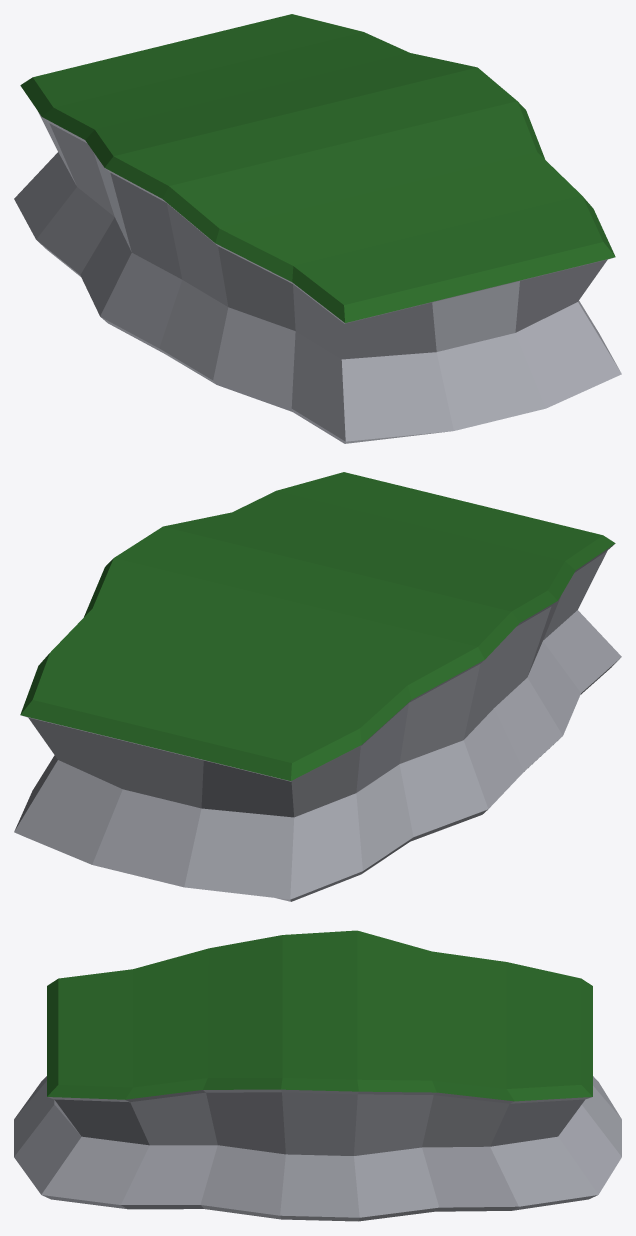
The model's file is cliff4.fbx.
The picture shows the model from 3 angles, top to bottom: view 1: azimuth 30°, elevation 25°; view 2: azimuth 150°, elevation 25°; view 3: azimuth 270°, elevation 25°; orthographic projection. The views are drawn at different scales.
Parts seen in each view (by area): view 1: Plane; view 2: Plane; view 3: Plane.
Boxes of the visible parts, x1,y1,x2,y2 form: Plane: [14, 14, 621, 443]; Plane: [14, 472, 621, 901]; Plane: [14, 930, 621, 1221].
Bounding box in the file's own units: 174 × 71.37 × 282.
